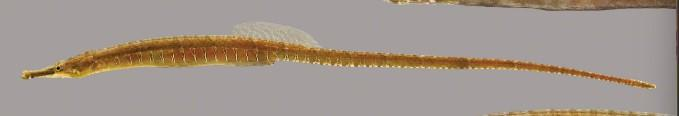Long-Snouted Pipefish: (19, 20, 658, 96)
